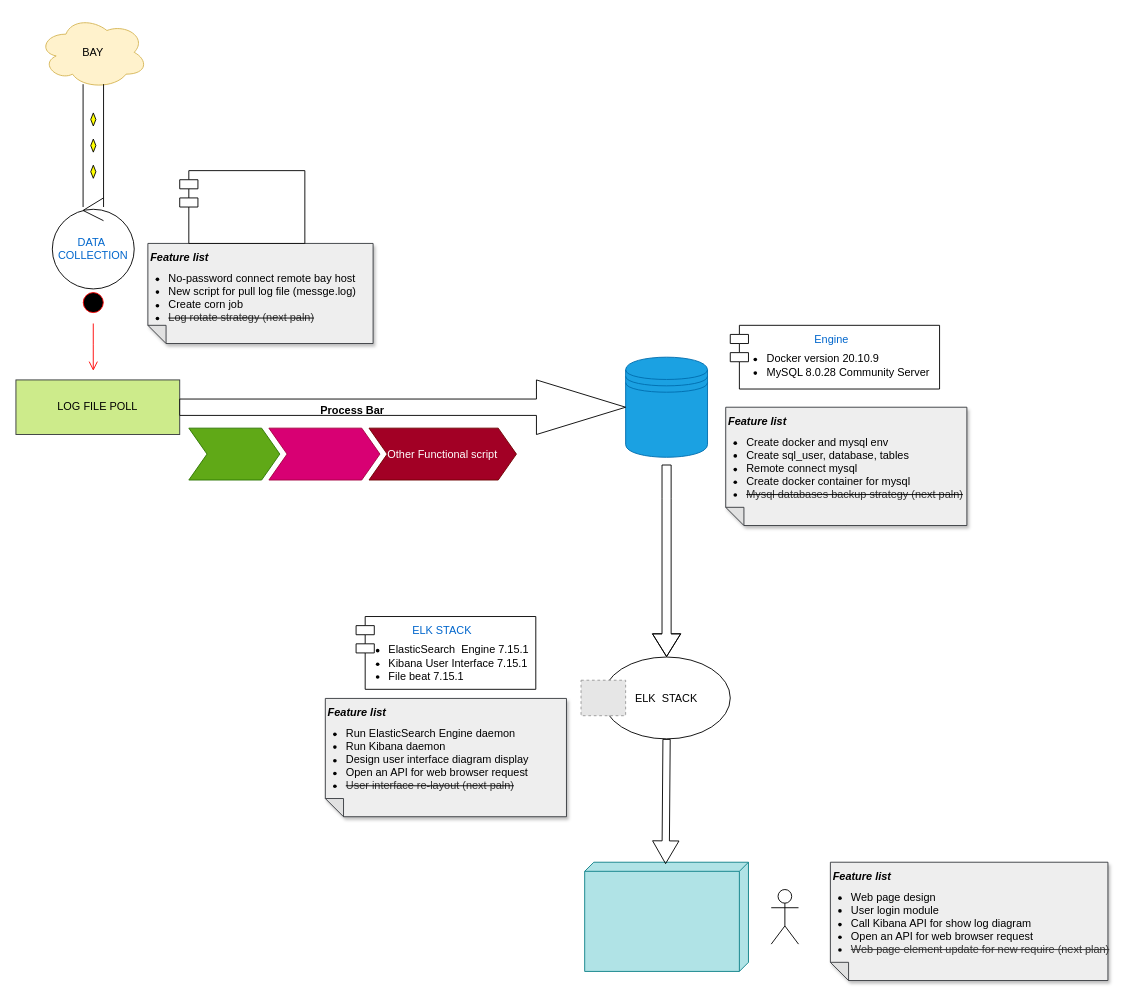
The diagram is 1129 pixels wide and 1003 high, and some of its shapes have lost their labels. Grey dashed boxes stand in for pictures. Here are the shapes that lost their labels. From the top down, the centre of each, then its label:
the point at 242,206: Tool Python3.6.8 GoLang1.17.7 Shell
the point at 666,406: DATA BASES
the point at 234,453: Filter Script
the point at 324,453: write pipeline
the point at 666,916: DATA SHOW
the point at 784,916: Actor
